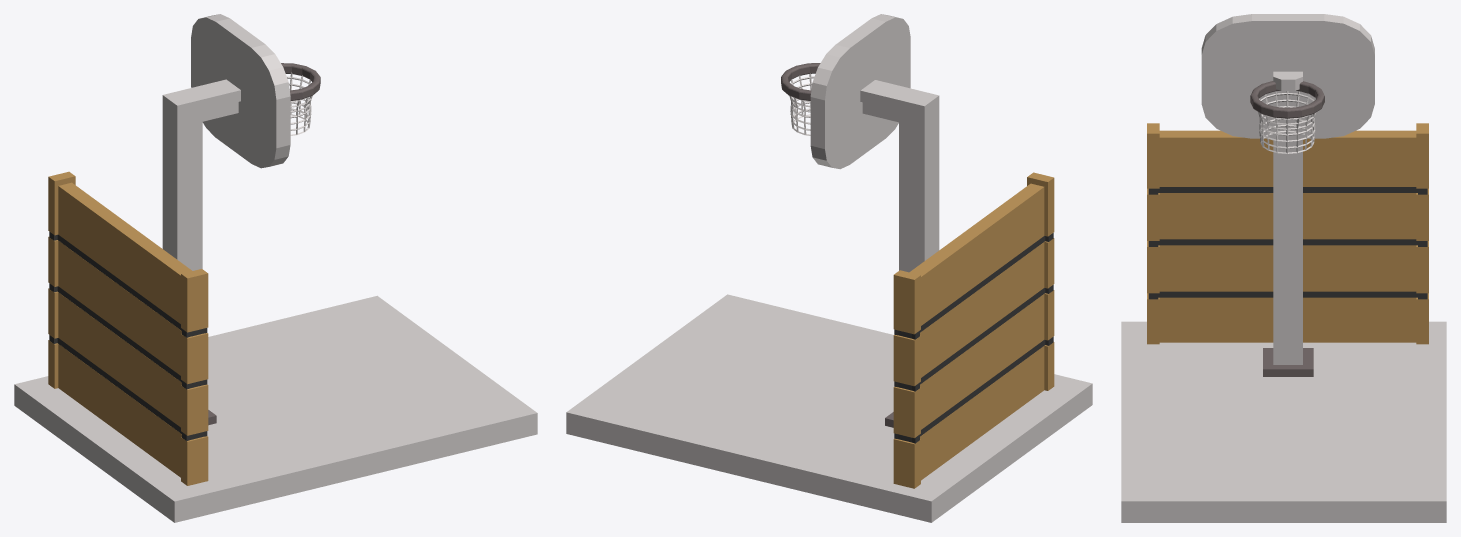
The model's file is low-poly-basketball.fbx.
3 renders of one model, left to right at view 1: azimuth 30°, elevation 25°; view 2: azimuth 150°, elevation 25°; view 3: azimuth 270°, elevation 25°, orthographic.
Visible parts, largest first — view 1: Basketball; view 2: Basketball; view 3: Basketball.
Part boxes in pixels (x1,y1,x2,y2): Basketball: (14,14,537,522); Basketball: (566,14,1092,522); Basketball: (1121,14,1446,522).
Bounding box in the file's own units: 1148 × 1189 × 878.
